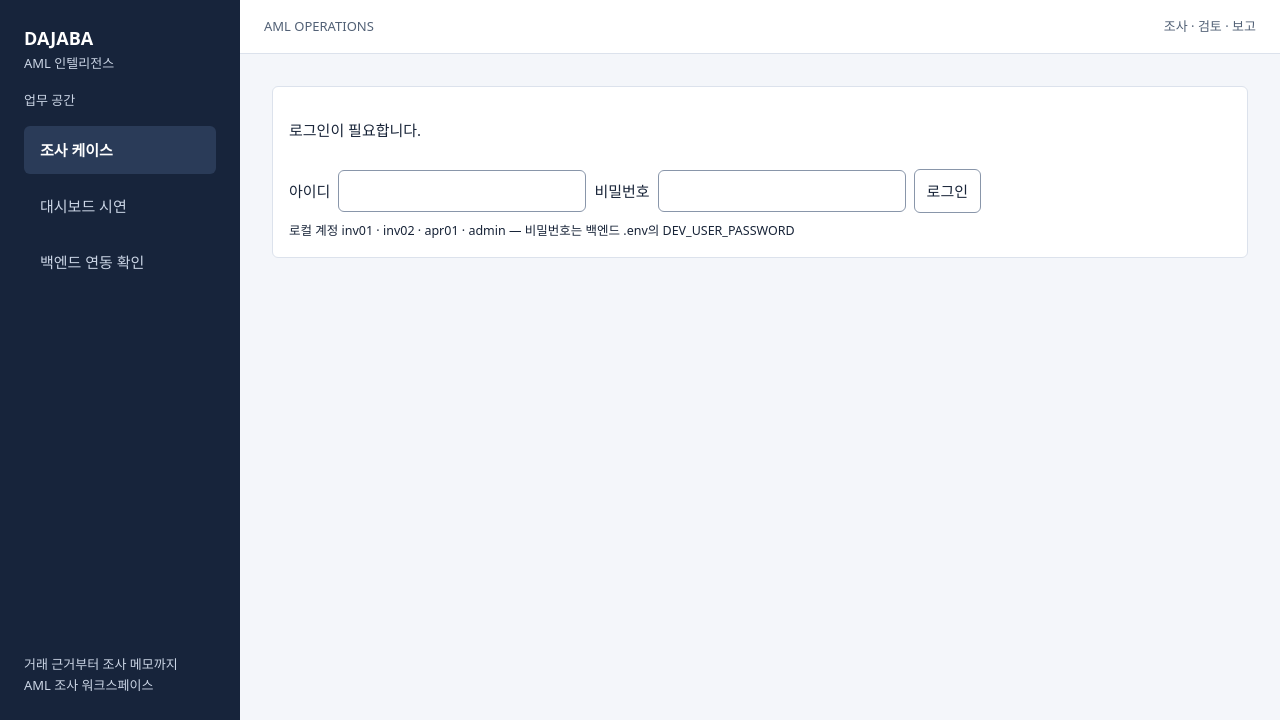
Test: 인증 통신 › LOGIN_FAILED는 사유 없이 한 문구로 보여 주고 다시 시도할 수 있다
This screenshot has width=1280, height=720.
expect the text "로그인이 필요합니다." is shown: met, box [289, 118, 421, 142]
Type "inv01" into the field labelled "아이디" at (462, 191), box [338, 170, 586, 212]
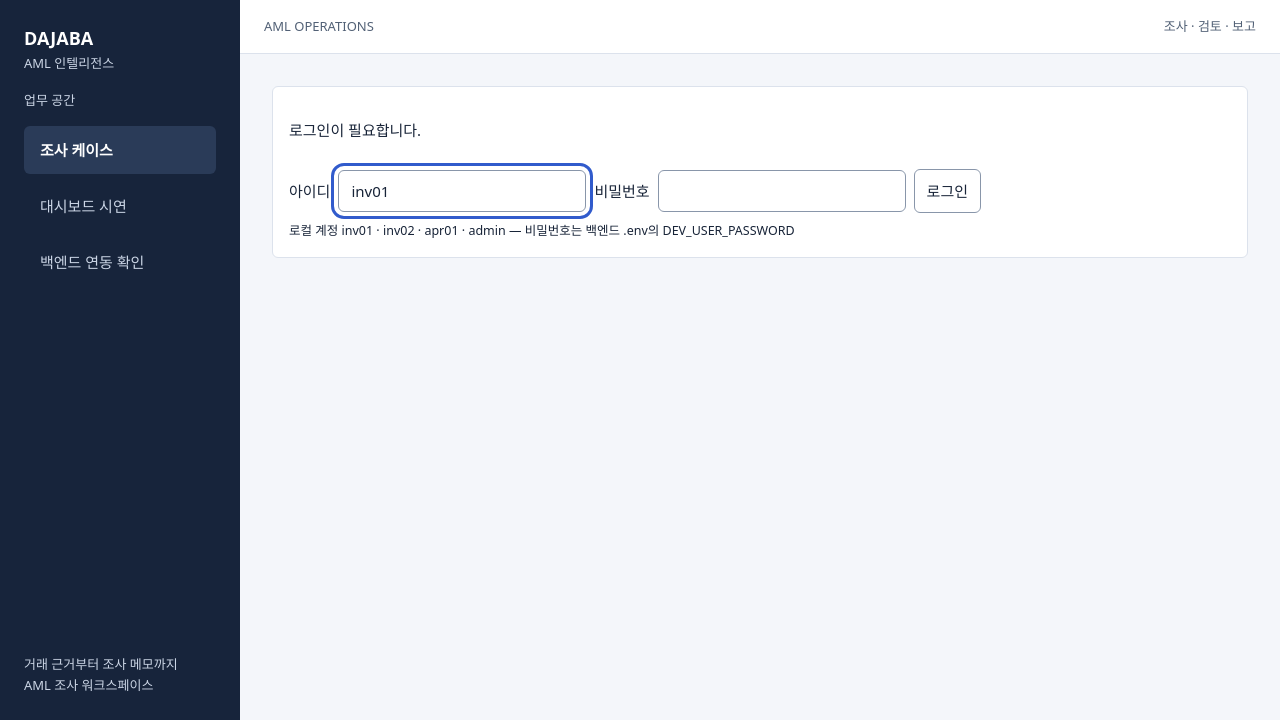
Type "wrong-password" into the password field labelled "비밀번호" at (782, 191), box [658, 170, 906, 212]
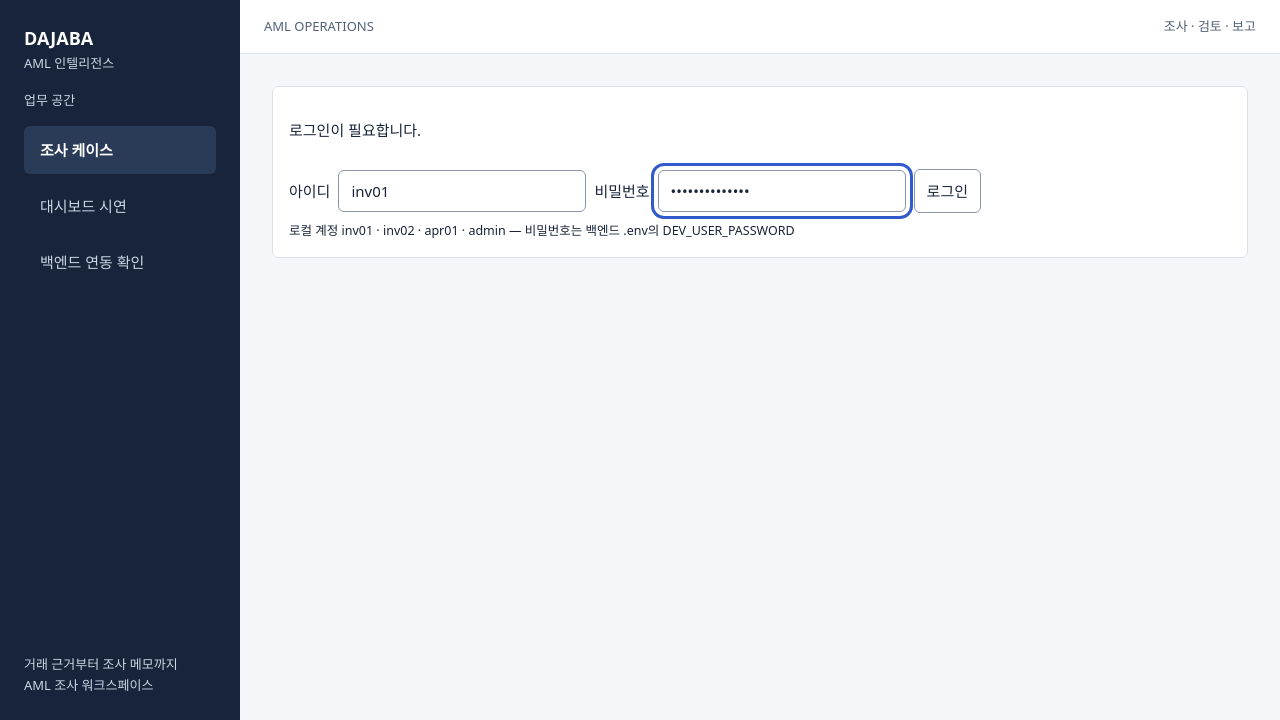
Click the button "로그인" at (947, 191), box [914, 169, 981, 213]
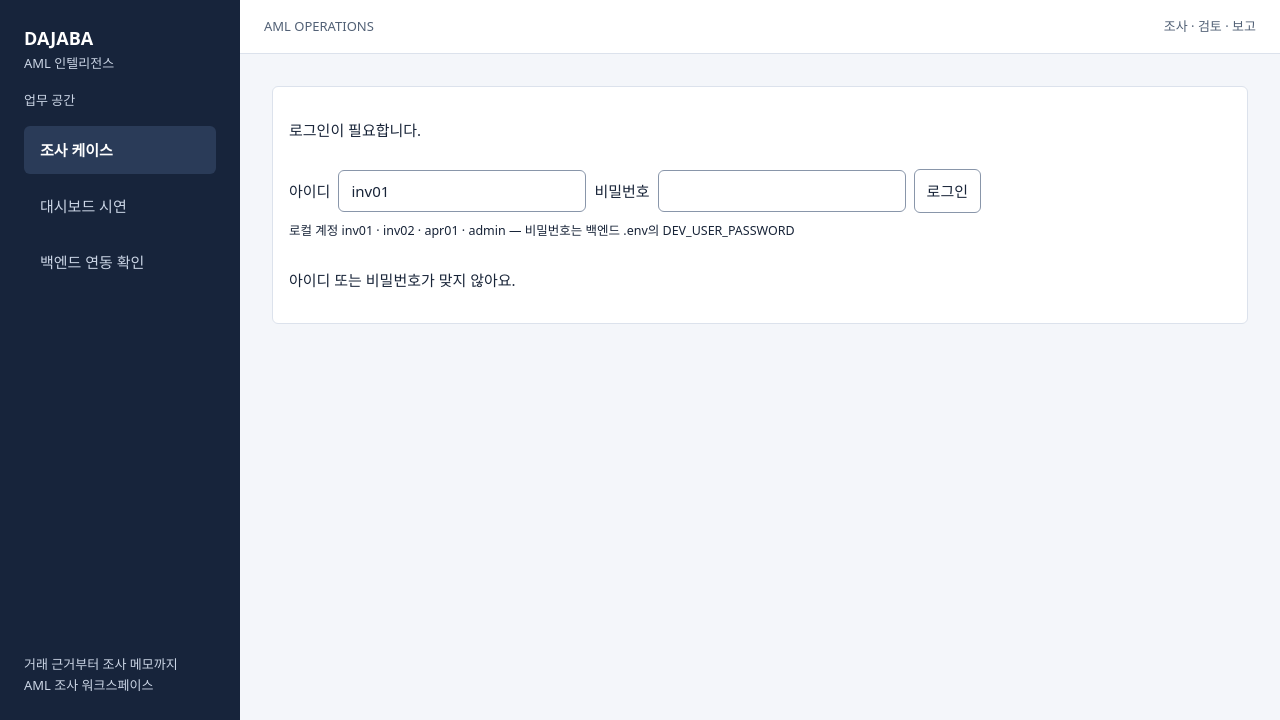
expect the message "아이디 또는 비밀번호가 맞지 않아요." is shown: met, box [289, 268, 516, 292]
expect the password field labelled "비밀번호" is empty: met
Type "mock-password" into the password field labelled "비밀번호" at (782, 191), box [658, 170, 906, 212]
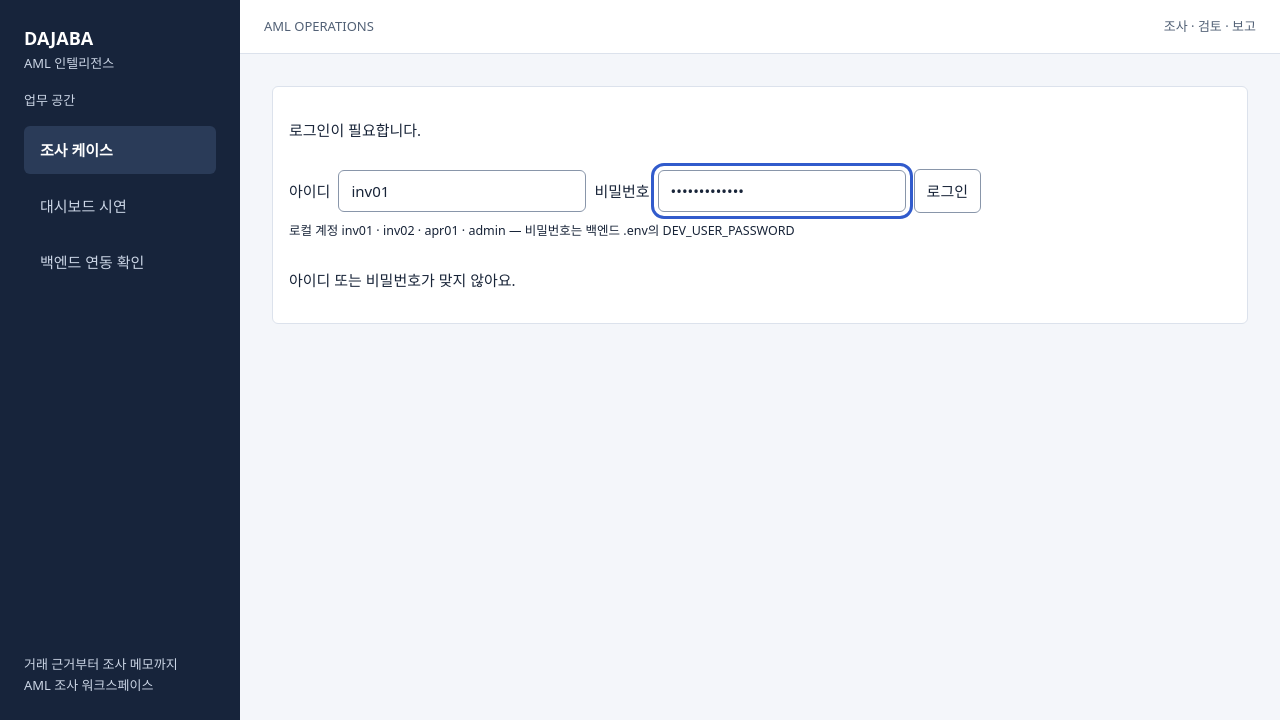
Click the button "로그인" at (947, 191), box [914, 169, 981, 213]
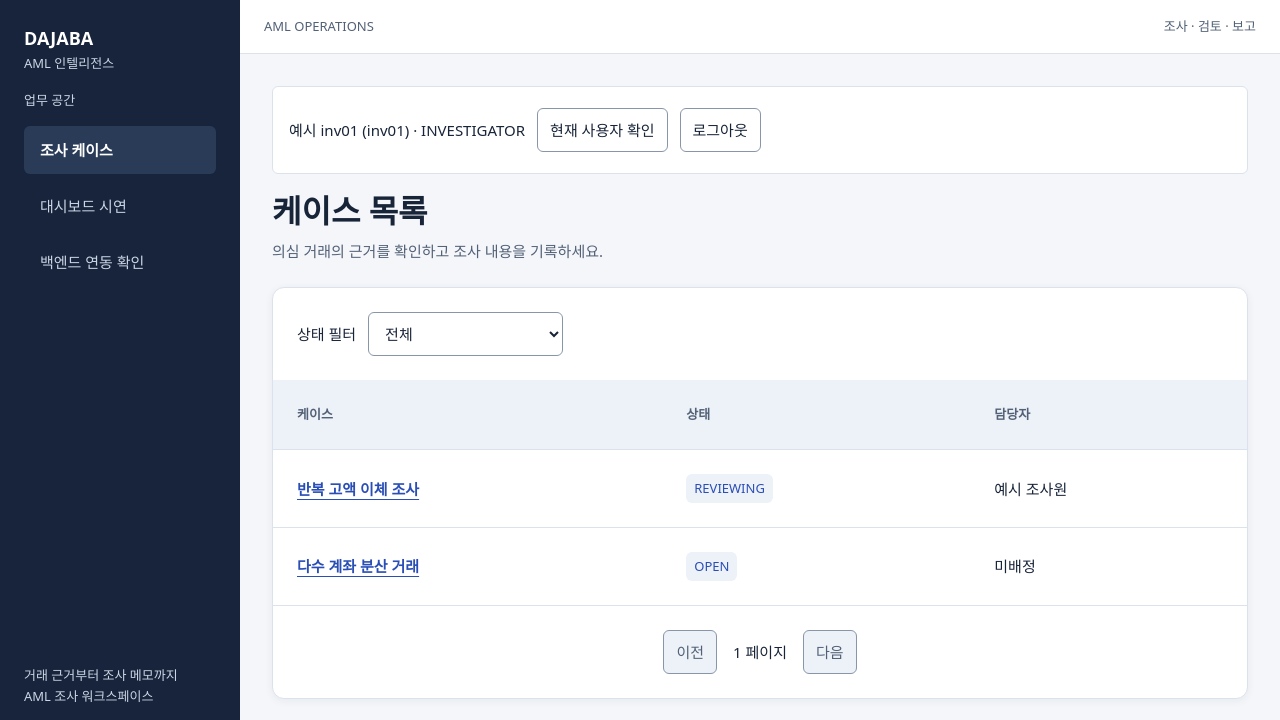
expect the text "예시 inv01 (inv01) · INVESTIGATOR" is shown: met, box [289, 118, 525, 142]
